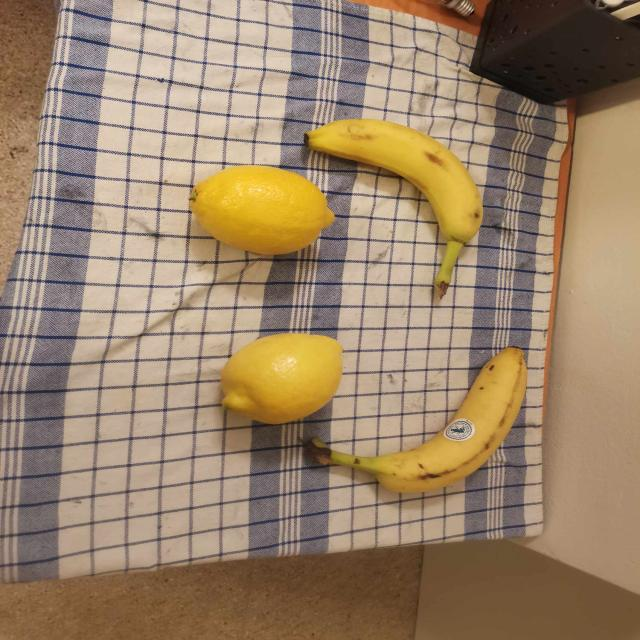banana: (305, 348, 527, 492), (305, 119, 483, 287)
lemon: (190, 165, 335, 255), (220, 334, 342, 424)
